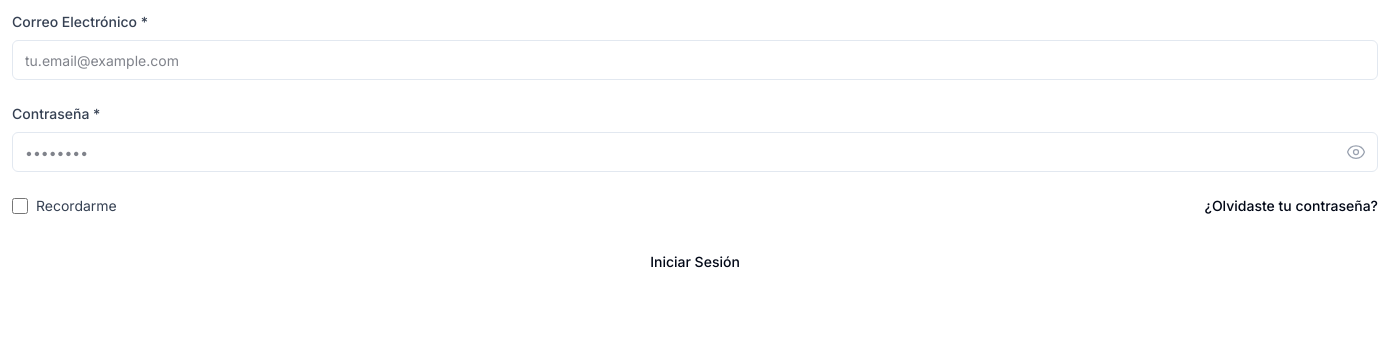
Test: Fixed Authentication Flow Tests › Authentication Submission › Network error shows generic error message
Type "test@example.com" into the field labelled "Correo Electrónico *" at (695, 60), box [12,40,1378,80]
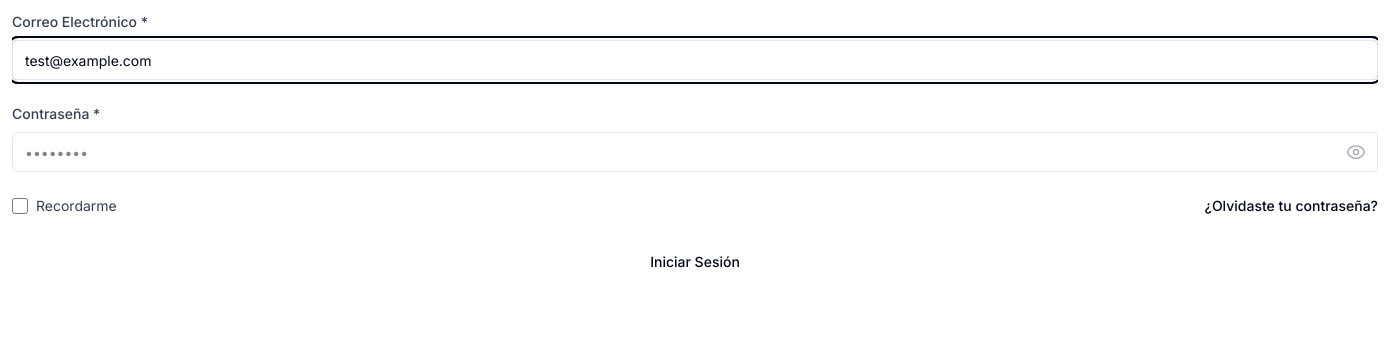
Type "password123" into the password field labelled "Contraseña *" at (695, 152), box [12,132,1378,172]
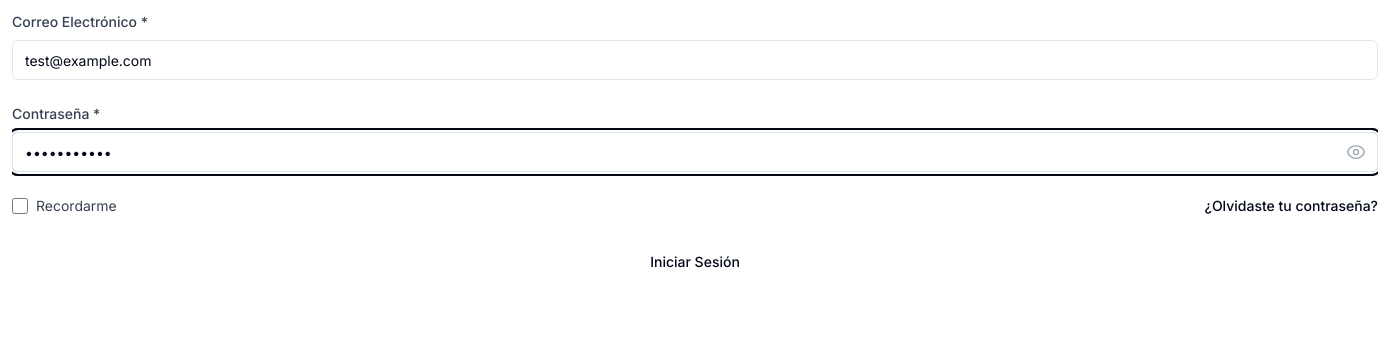
Click the button "Iniciar Sesión" at (695, 262), box [12,240,1378,284]
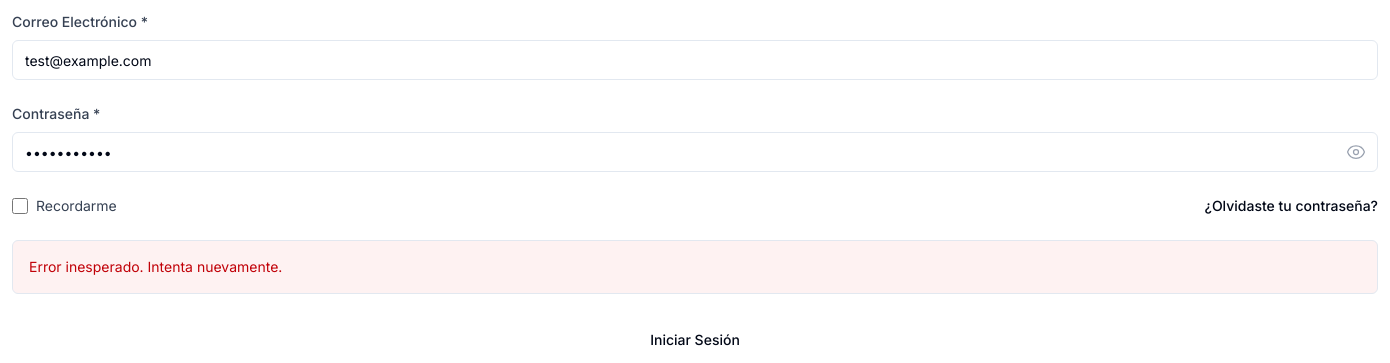
expect the text "Error inesperado. Intenta nuevamente." is shown: met, box [29,258,282,275]
